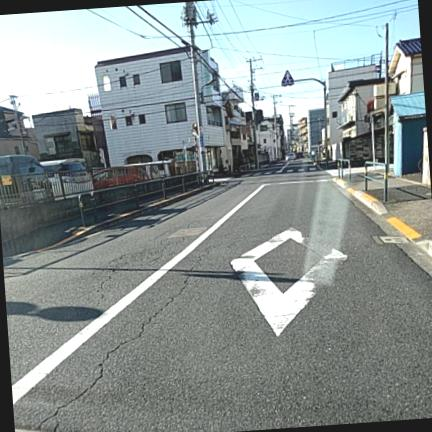Road: (3, 160, 431, 431)
